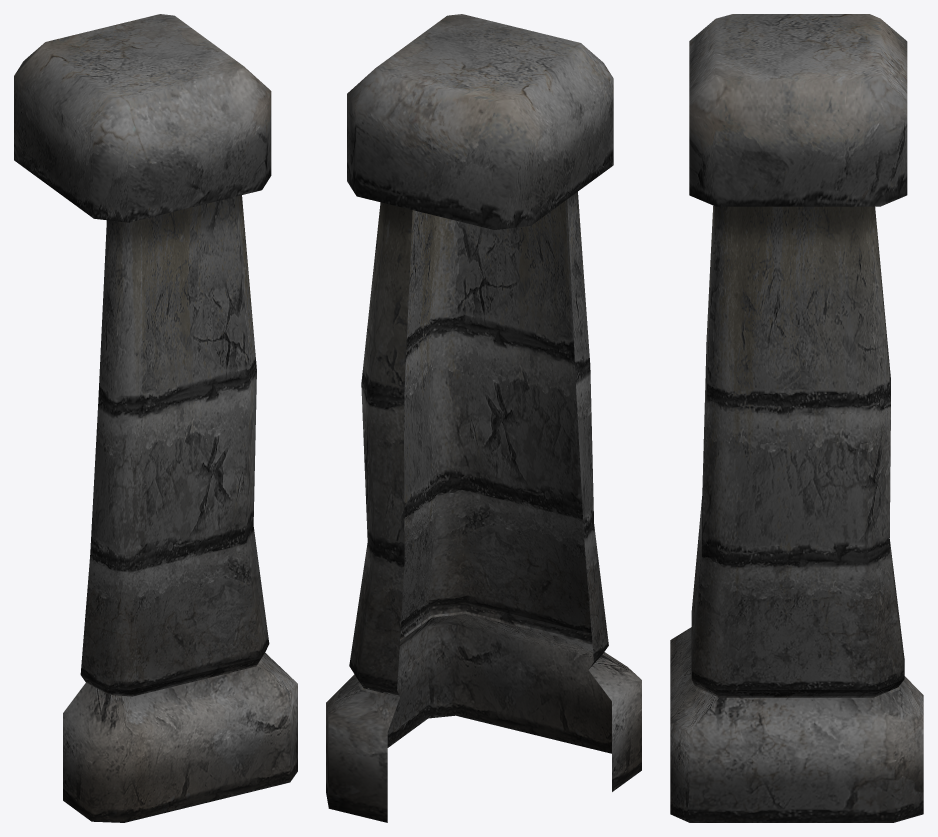
Rendered from column_corner.obj.
The picture shows the model from 3 angles, left to right: view 1: azimuth 30°, elevation 25°; view 2: azimuth 150°, elevation 25°; view 3: azimuth 270°, elevation 25°; orthographic projection. The views are drawn at different scales.
Visible parts, largest first — view 1: Grim_Bear_Column_Corner; view 2: Grim_Bear_Column_Corner; view 3: Grim_Bear_Column_Corner.
Boxes of the visible parts, x1,y1,x2,y2 form: Grim_Bear_Column_Corner: (14,14,297,822); Grim_Bear_Column_Corner: (326,14,641,822); Grim_Bear_Column_Corner: (670,14,923,822).
Size of the model in its own units: 81.95 by 266 by 84.4.
1 material, 1 textured.
